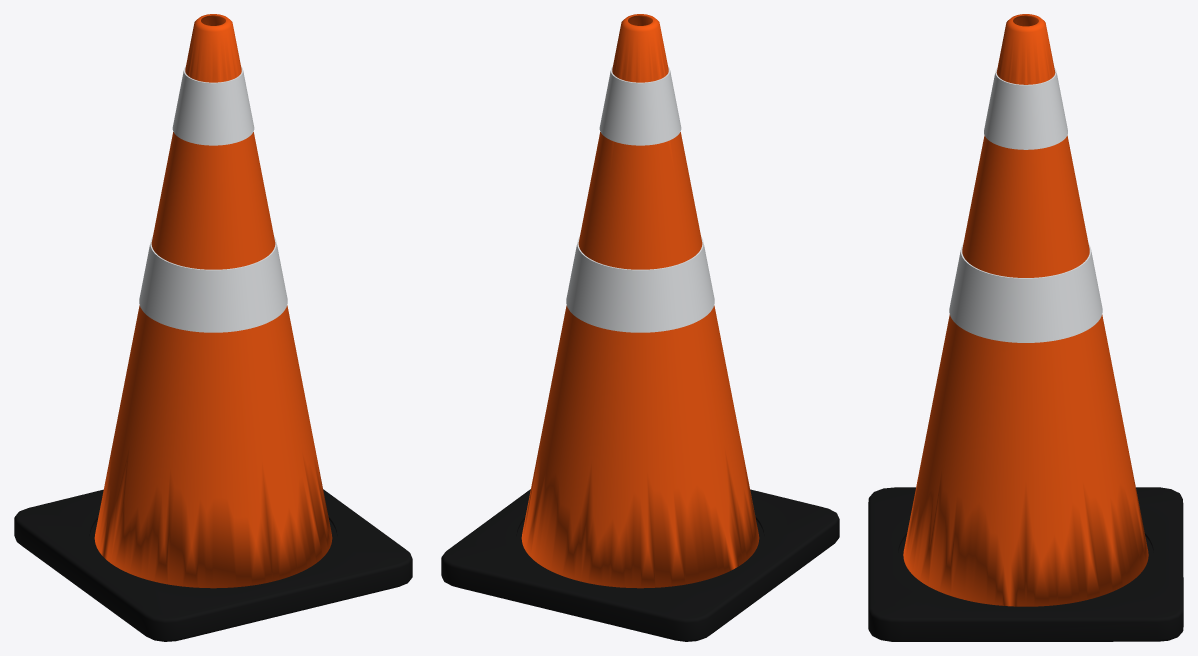
Rendered from traffic-cone.glb.
The picture shows the model from 3 angles, left to right: view 1: azimuth 30°, elevation 25°; view 2: azimuth 150°, elevation 25°; view 3: azimuth 270°, elevation 25°; orthographic projection. The views are drawn at different scales.
Parts seen in each view (by area): view 1: cone_shell, base_plate, band_lower, band_upper; view 2: cone_shell, base_plate, band_lower, band_upper; view 3: cone_shell, base_plate, band_lower, band_upper.
Boxes of the visible parts, x1,y1,x2,y2 form: cone_shell: [94, 14, 332, 588]; base_plate: [14, 489, 412, 641]; band_lower: [139, 236, 287, 332]; band_upper: [172, 66, 254, 145]; cone_shell: [521, 14, 759, 588]; base_plate: [441, 489, 839, 641]; band_lower: [566, 236, 714, 332]; band_upper: [599, 66, 681, 145]; cone_shell: [903, 14, 1148, 606]; base_plate: [868, 487, 1183, 641]; band_lower: [949, 244, 1102, 342]; band_upper: [984, 68, 1067, 149].
Bounding box in the file's own units: 0.36 × 0.7 × 0.36.
